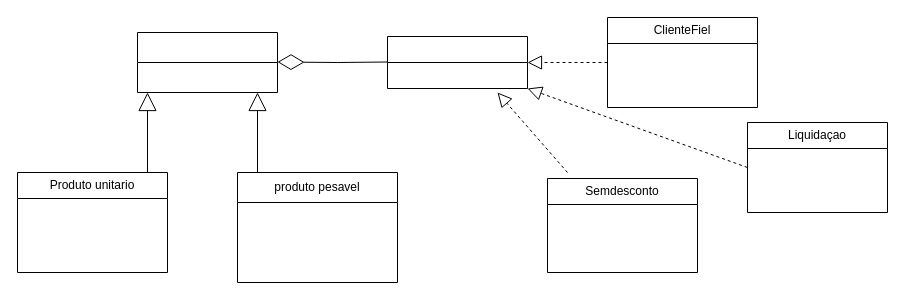
Image size: 905x300. Some labels were removed from this diagram. Here are the shapes that lost their labels. From the top down, the centre of each, then its label:
At (x=207, y=62): "Produto".
At (x=457, y=62): "Promoçao".
